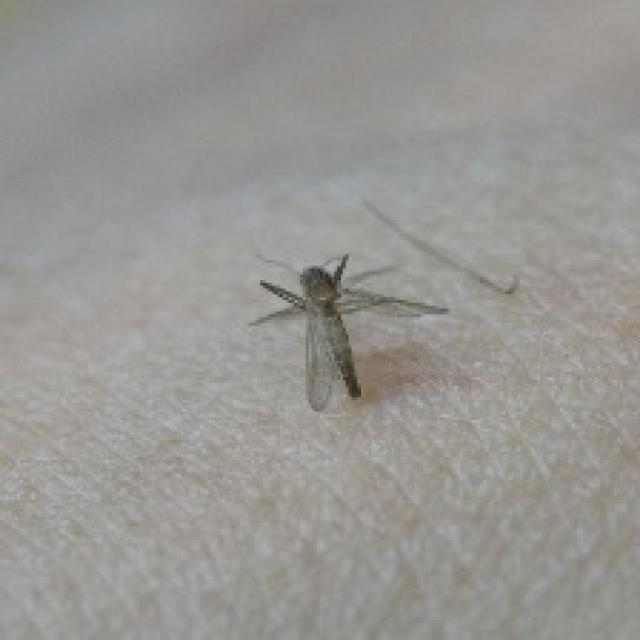culex: (246, 248, 448, 412)
